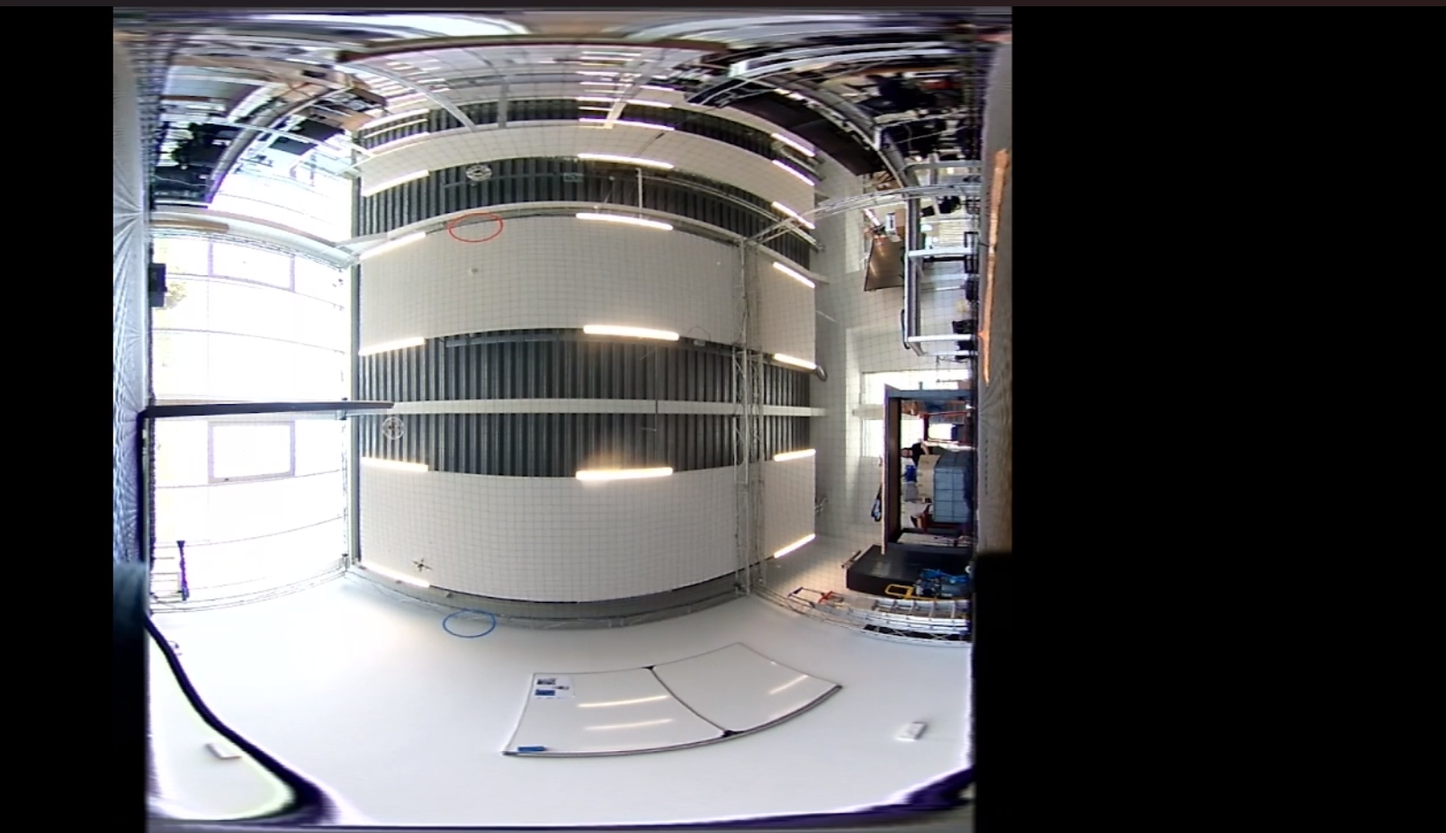Drone: (380, 417, 405, 442), (409, 555, 434, 576), (466, 165, 492, 183)
